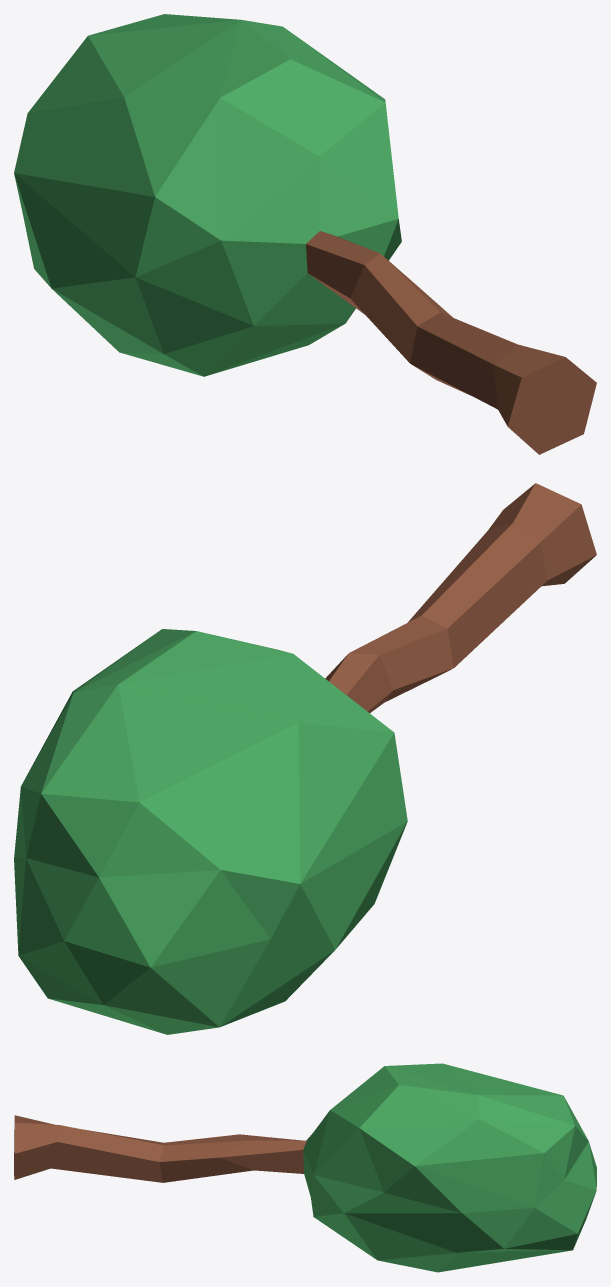
File: tree.fbx
The picture shows the model from 3 angles, top to bottom: view 1: azimuth 30°, elevation 25°; view 2: azimuth 150°, elevation 25°; view 3: azimuth 270°, elevation 25°; orthographic projection. The views are drawn at different scales.
Visible parts, largest first — view 1: Tree; view 2: Tree; view 3: Tree.
Part boxes in pixels (x1,y1,x2,y2): Tree: (14, 14, 596, 454); Tree: (14, 483, 596, 1034); Tree: (14, 1063, 596, 1272).
Size of the model in its own units: 657 by 662 by 1760.
